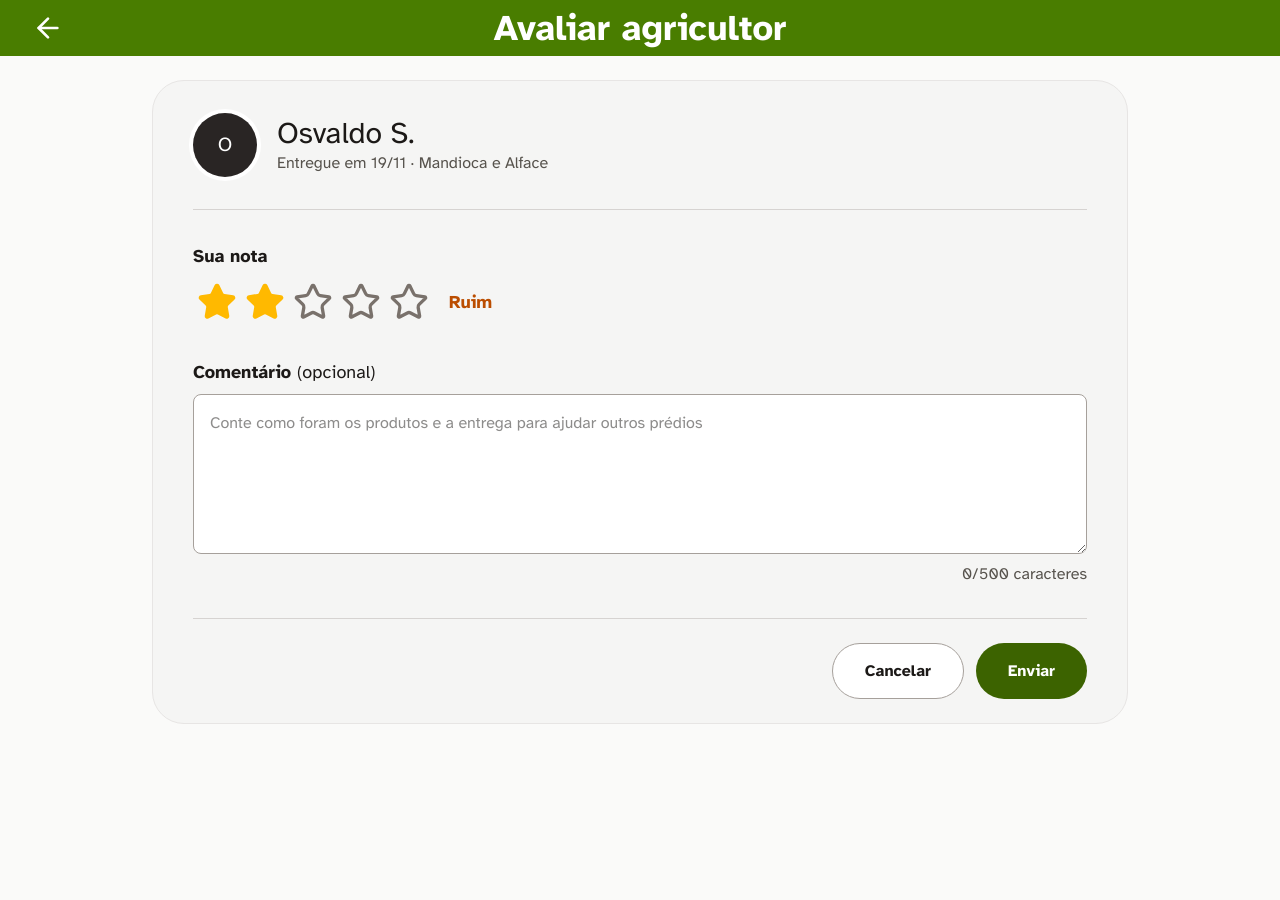
Reviews form, unavailable or failing › keeps the form with the message when sending fails
Click the button "Enviar": [1032, 671] box [976,643,1087,699]
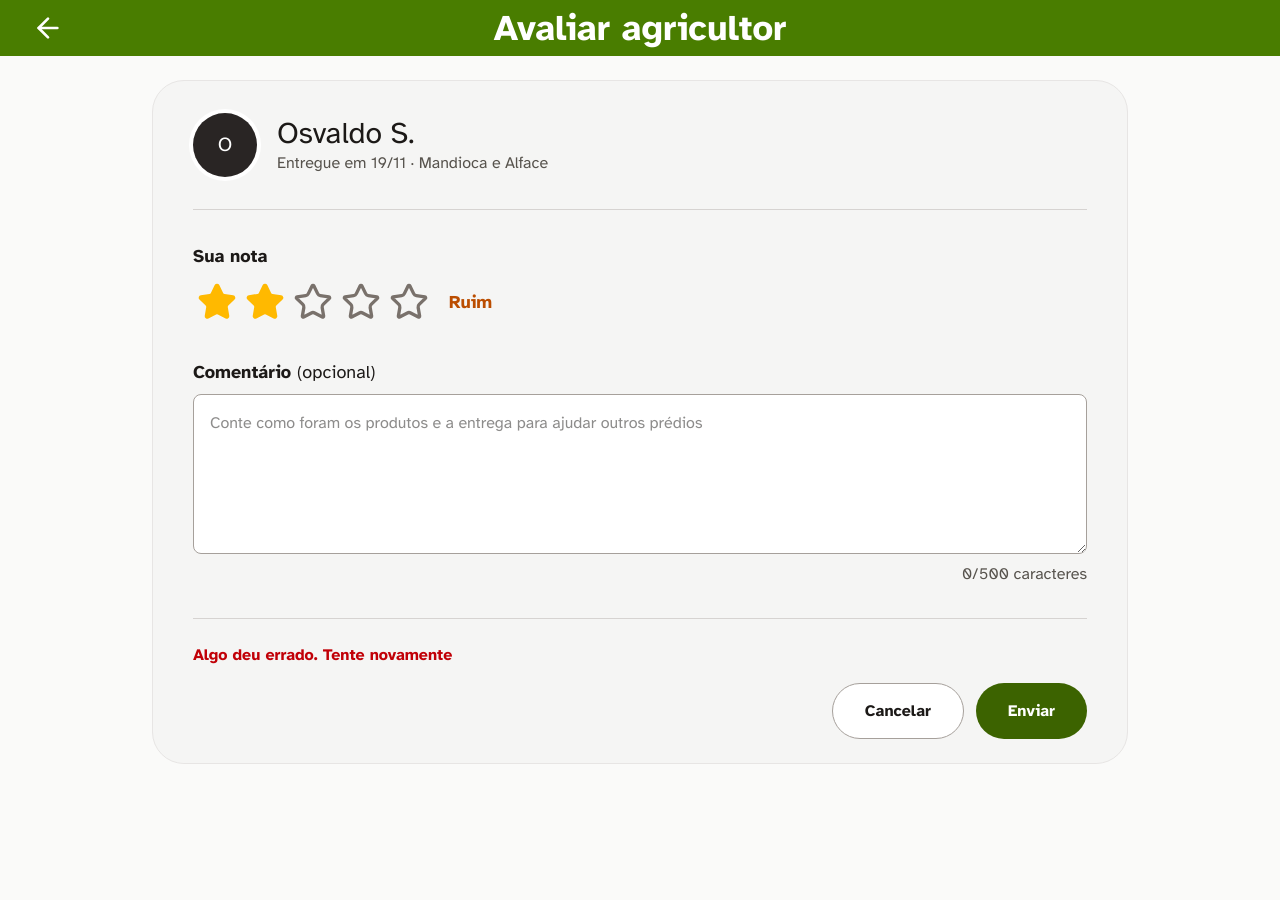
Check: the radio button named "2 estrelas, Ruim" is checked, box [241,278,289,326]
Check: the message "Algo deu errado. Tente novamente" is shown, box [193,645,452,665]
